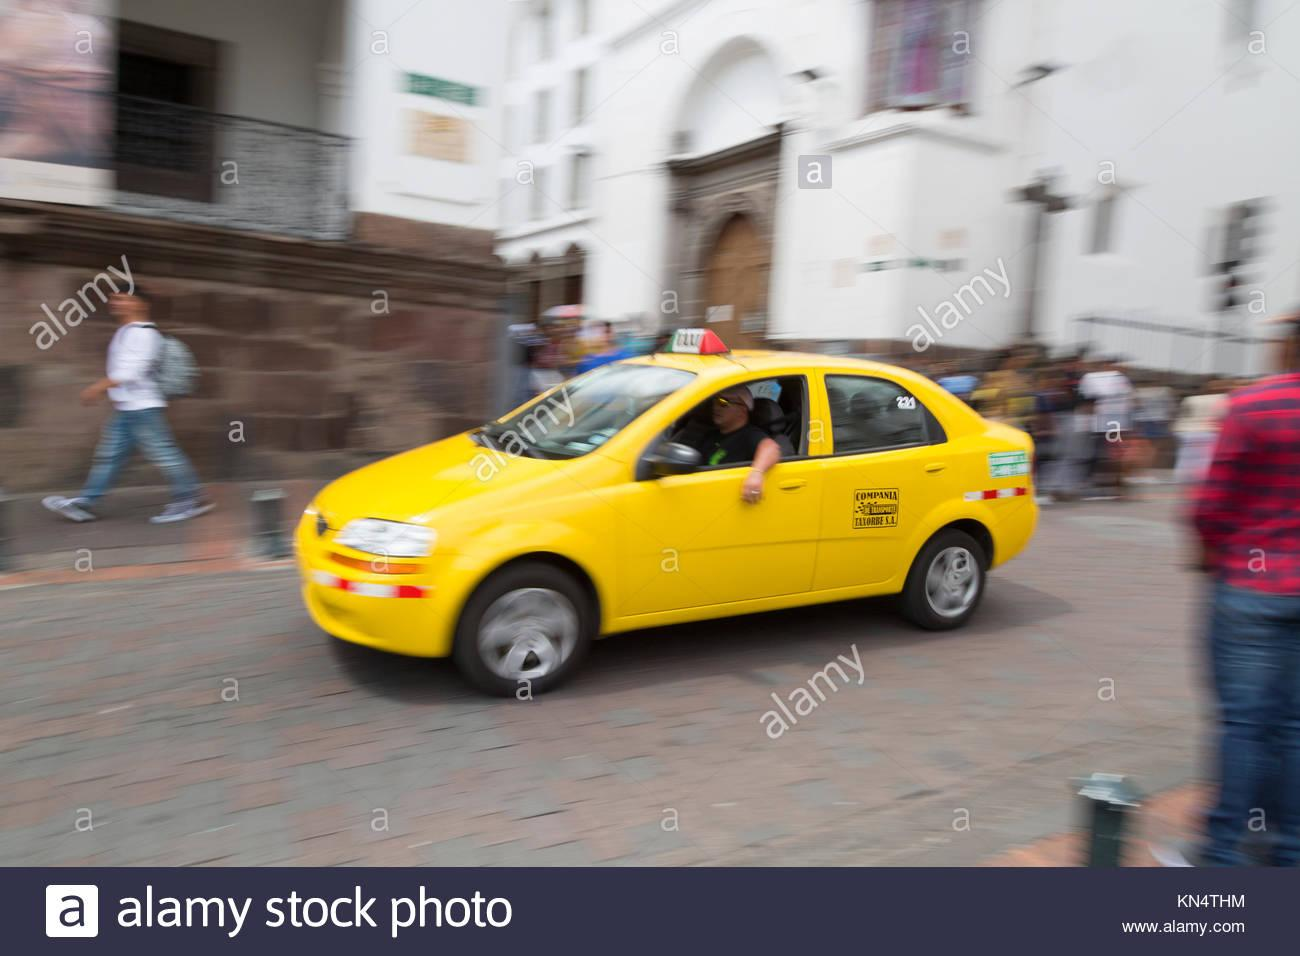taxi: (326, 294, 1065, 708)
